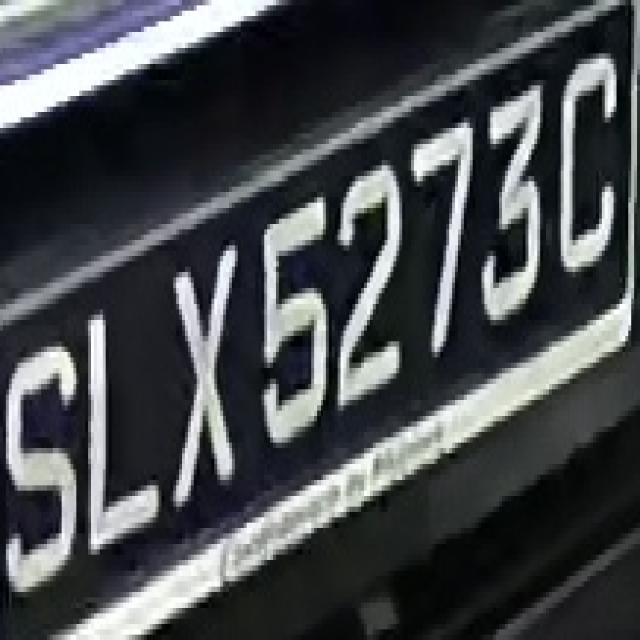2: (323, 149, 411, 416)
3: (470, 64, 555, 331)
5: (255, 192, 338, 464)
7: (399, 107, 482, 368)
C: (543, 37, 625, 272)
L: (80, 304, 162, 560)
S: (12, 315, 73, 597)
X: (164, 240, 244, 512)
